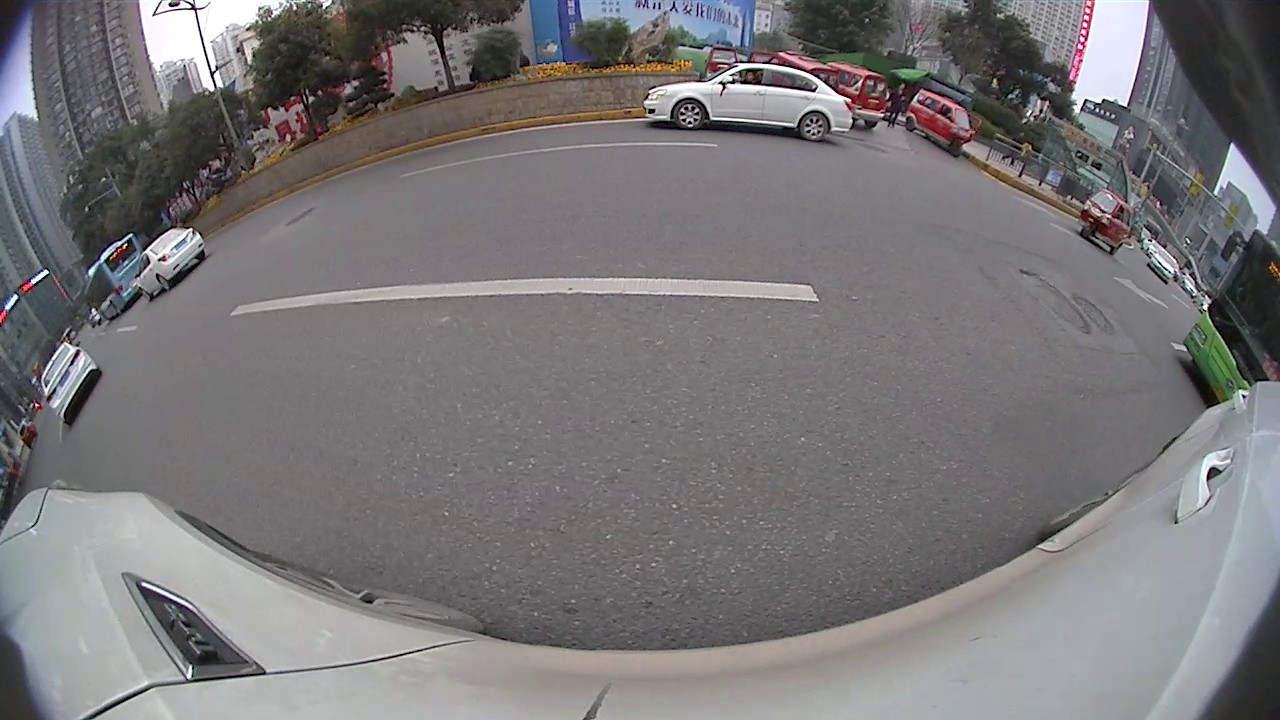bus: (1182, 226, 1278, 409), (80, 230, 146, 327)
car: (642, 60, 855, 144), (133, 226, 208, 304), (39, 342, 102, 429), (1146, 247, 1179, 281)
front: (673, 98, 708, 133), (138, 288, 154, 303)
person: (892, 84, 907, 127)
rear: (798, 113, 831, 143), (157, 276, 174, 293)
rider: (904, 88, 973, 158), (825, 60, 888, 130), (1079, 188, 1135, 256), (770, 50, 839, 96), (708, 43, 739, 80), (746, 45, 775, 70)
